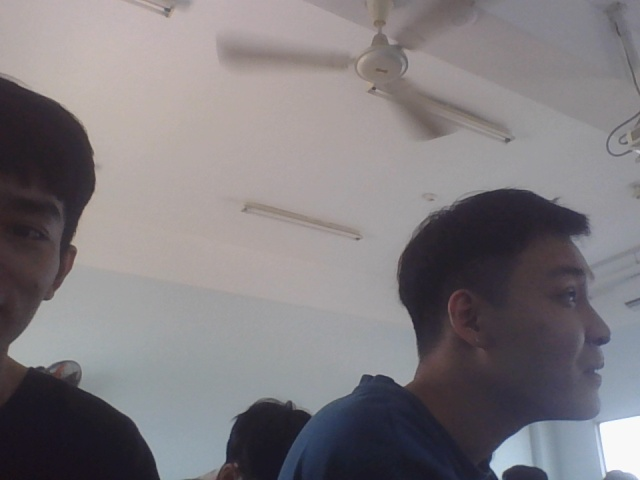real: (460, 184, 620, 411)
